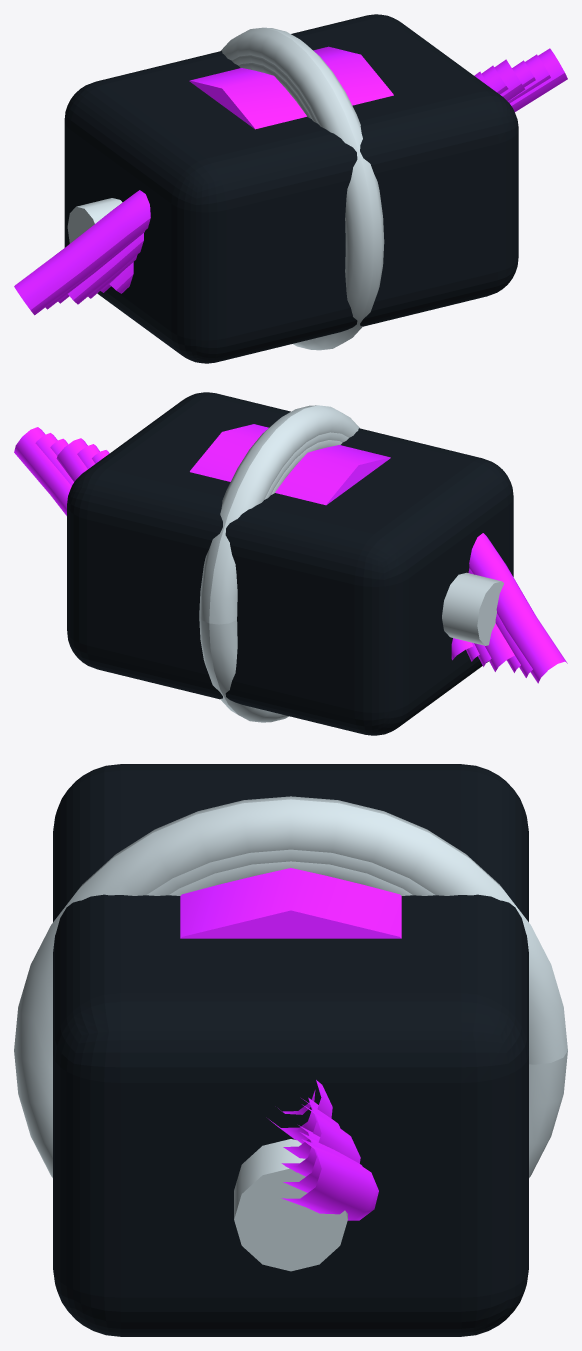
File: electrical_15.glb
3 renders of one model, top to bottom at view 1: azimuth 30°, elevation 25°; view 2: azimuth 150°, elevation 25°; view 3: azimuth 270°, elevation 25°, orthographic. The views are drawn at different scales.
Parts seen in each view (by area): view 1: asset_mesh__electrical_0791__reference_body, asset_mesh__electrical_0863__functional_ring, asset_mesh__electrical_0809__current_path, asset_mesh__electrical_0863__rotor, asset_mesh__electrical_0851__current_path, asset_mesh__electrical_0890__assembly_axis, asset_mesh__electrical_0808__current_path, asset_mesh__electrical_0826__functional_ring, asset_mesh__electrical_0832__current_path, asset_mesh__electrical_0825__functional_ring; view 2: asset_mesh__electrical_0791__reference_body, asset_mesh__electrical_0863__functional_ring, asset_mesh__electrical_0809__current_path, asset_mesh__electrical_0863__rotor, asset_mesh__electrical_0890__assembly_axis, asset_mesh__electrical_0851__current_path, asset_mesh__electrical_0808__current_path, asset_mesh__electrical_0826__functional_ring, asset_mesh__electrical_0832__current_path, asset_mesh__electrical_0825__functional_ring; view 3: asset_mesh__electrical_0791__reference_body, asset_mesh__electrical_0863__functional_ring, asset_mesh__electrical_0863__rotor, asset_mesh__electrical_0890__assembly_axis, asset_mesh__electrical_0809__current_path, asset_mesh__electrical_0826__functional_ring, asset_mesh__electrical_0825__functional_ring, asset_mesh__electrical_0851__current_path, asset_mesh__electrical_0808__current_path.
Boxes of the visible parts, left/top/right/bottom form: asset_mesh__electrical_0791__reference_body: left=64, top=14, right=518, bottom=363; asset_mesh__electrical_0863__functional_ring: left=221, top=27, right=384, bottom=350; asset_mesh__electrical_0809__current_path: left=14, top=48, right=567, bottom=315; asset_mesh__electrical_0863__rotor: left=189, top=46, right=393, bottom=129; asset_mesh__electrical_0851__current_path: left=68, top=59, right=525, bottom=304; asset_mesh__electrical_0890__assembly_axis: left=67, top=198, right=122, bottom=243; asset_mesh__electrical_0808__current_path: left=45, top=54, right=550, bottom=309; asset_mesh__electrical_0826__functional_ring: left=232, top=55, right=317, bottom=123; asset_mesh__electrical_0832__current_path: left=88, top=65, right=508, bottom=298; asset_mesh__electrical_0825__functional_ring: left=239, top=63, right=311, bottom=118; asset_mesh__electrical_0791__reference_body: left=67, top=392, right=513, bottom=735; asset_mesh__electrical_0863__functional_ring: left=199, top=405, right=359, bottom=722; asset_mesh__electrical_0809__current_path: left=14, top=427, right=567, bottom=683; asset_mesh__electrical_0863__rotor: left=190, top=424, right=390, bottom=505; asset_mesh__electrical_0890__assembly_axis: left=442, top=572, right=503, bottom=645; asset_mesh__electrical_0851__current_path: left=56, top=438, right=514, bottom=671; asset_mesh__electrical_0808__current_path: left=35, top=433, right=532, bottom=677; asset_mesh__electrical_0826__functional_ring: left=264, top=432, right=348, bottom=499; asset_mesh__electrical_0832__current_path: left=77, top=444, right=491, bottom=666; asset_mesh__electrical_0825__functional_ring: left=271, top=440, right=341, bottom=494; asset_mesh__electrical_0791__reference_body: left=53, top=764, right=528, bottom=1336; asset_mesh__electrical_0863__functional_ring: left=14, top=796, right=567, bottom=1177; asset_mesh__electrical_0863__rotor: left=180, top=868, right=401, bottom=938; asset_mesh__electrical_0890__assembly_axis: left=234, top=1139, right=347, bottom=1271; asset_mesh__electrical_0809__current_path: left=281, top=1139, right=378, bottom=1220; asset_mesh__electrical_0826__functional_ring: left=146, top=849, right=435, bottom=895; asset_mesh__electrical_0825__functional_ring: left=169, top=861, right=412, bottom=895; asset_mesh__electrical_0851__current_path: left=281, top=1104, right=360, bottom=1172; asset_mesh__electrical_0808__current_path: left=283, top=1132, right=362, bottom=1192.
Size of the model in its own units: 1.73 by 0.8996 by 0.8996.
